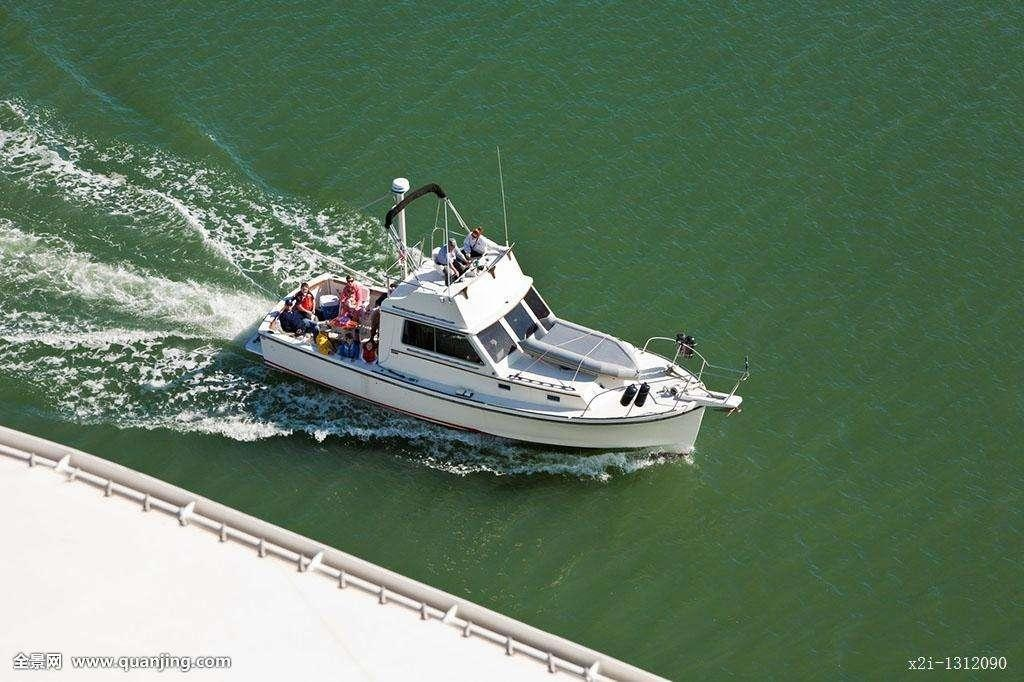yacht: (254, 192, 752, 477)
